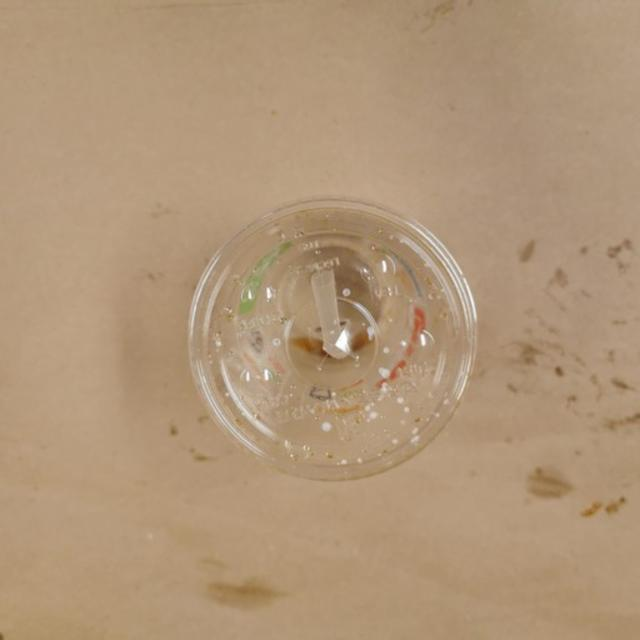plastic: (187, 192, 487, 490)
